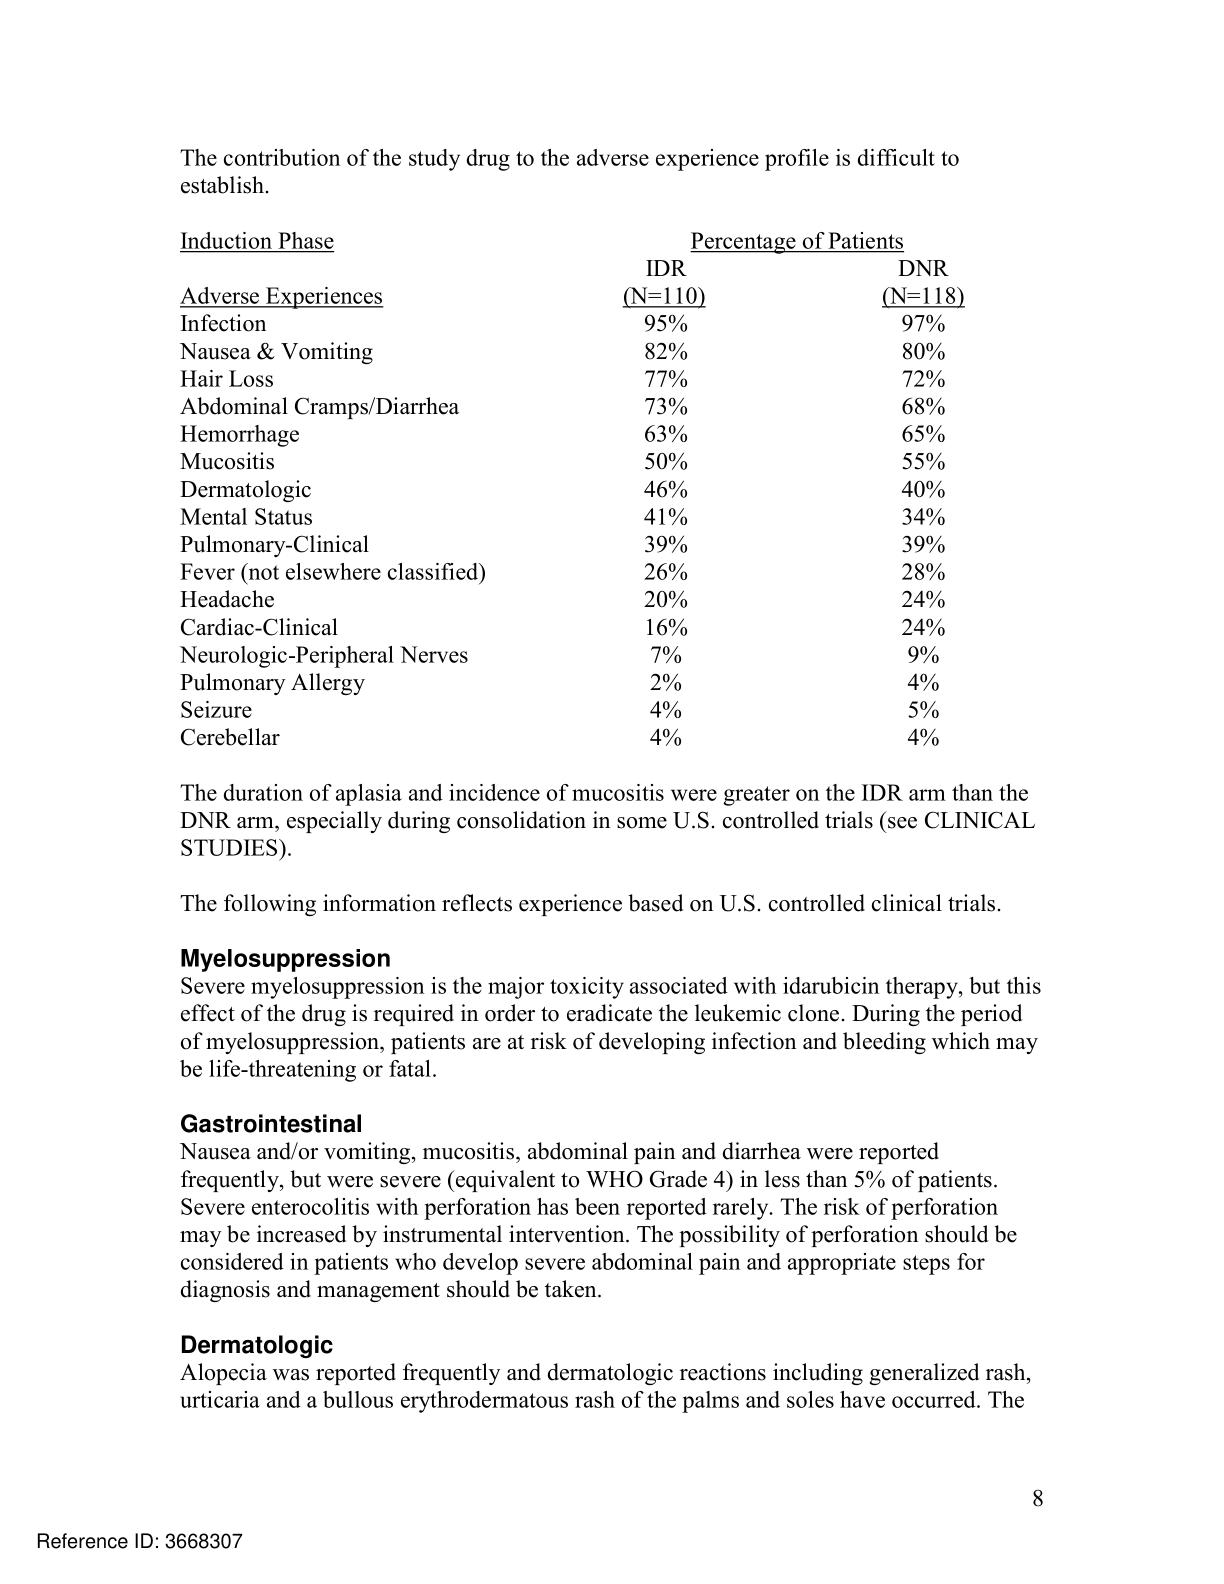nolines: (168, 215, 969, 756)
